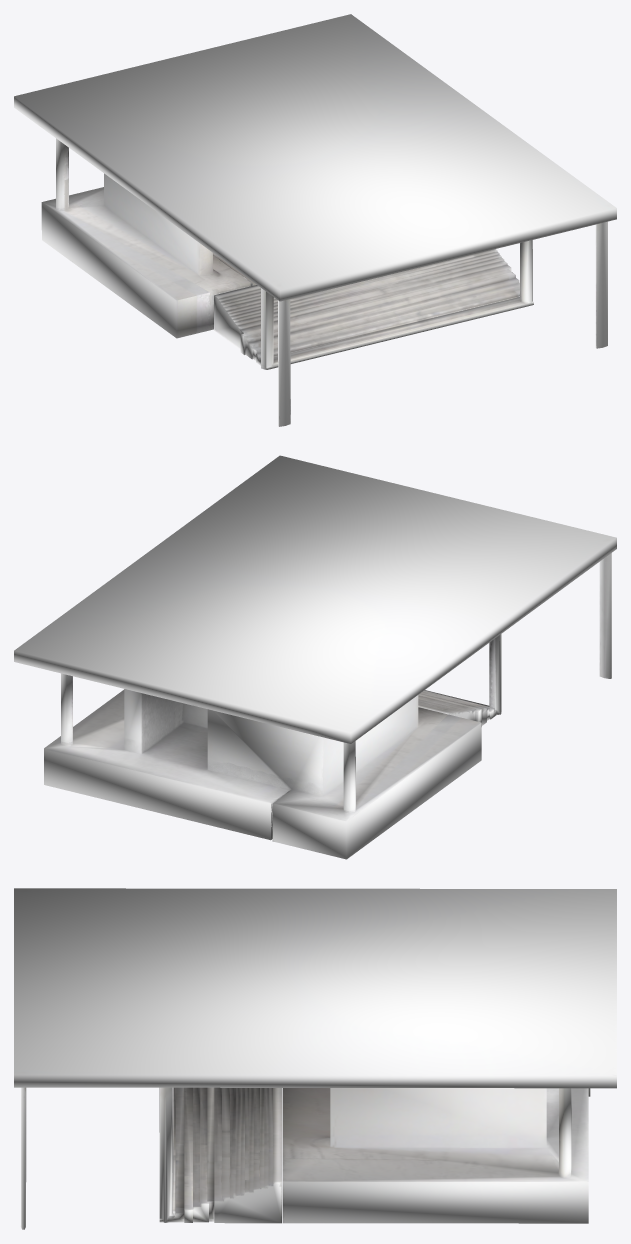
File: home_005.obj
The picture shows the model from 3 angles, top to bottom: view 1: azimuth 30°, elevation 25°; view 2: azimuth 150°, elevation 25°; view 3: azimuth 270°, elevation 25°; orthographic projection. The views are drawn at different scales.
Visible parts, largest first — view 1: model; view 2: model; view 3: model.
Boxes of the visible parts, x1,y1,x2,y2 form: model: (14,14,616,426); model: (14,455,616,859); model: (14,888,616,1229).
Size of the model in its own units: 1.46 by 0.5796 by 2.
